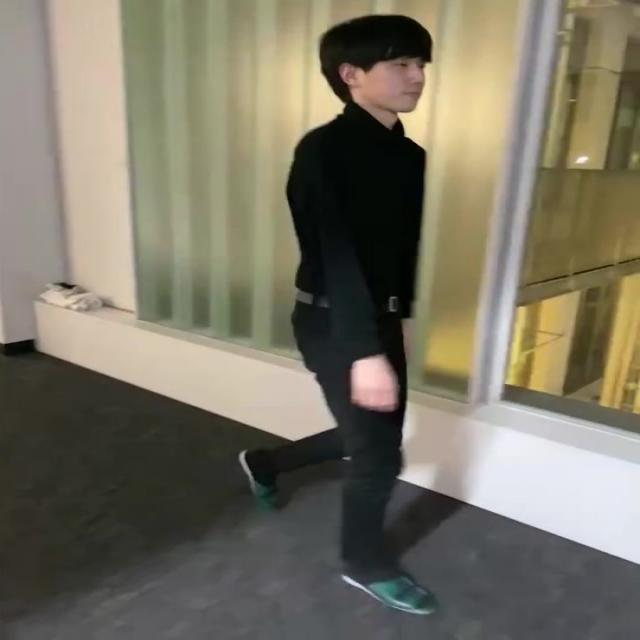direk: (234, 11, 442, 626)
